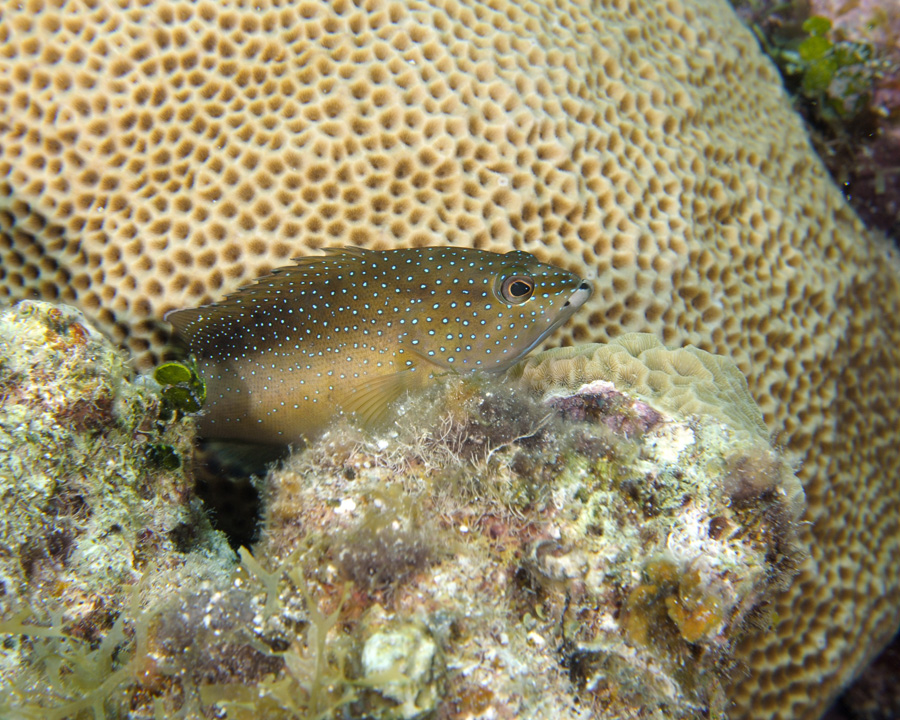Cephalopholis_fulvaw: (142, 236, 641, 498)
